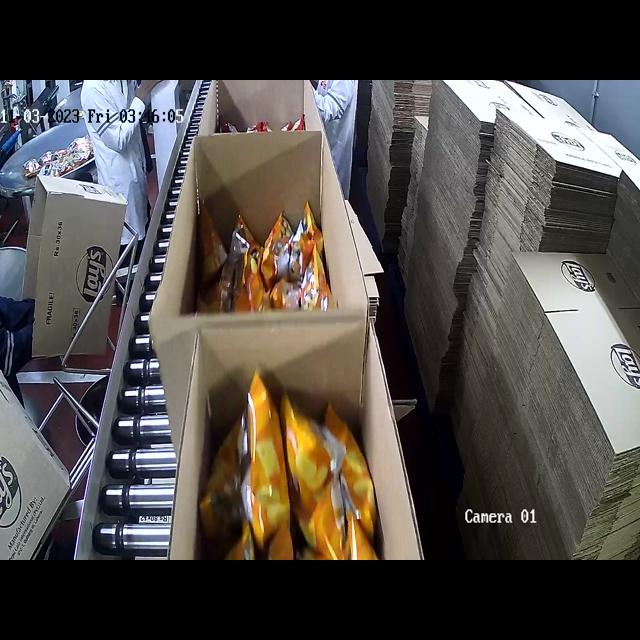cheese: (215, 389, 395, 560), (196, 221, 328, 316)
